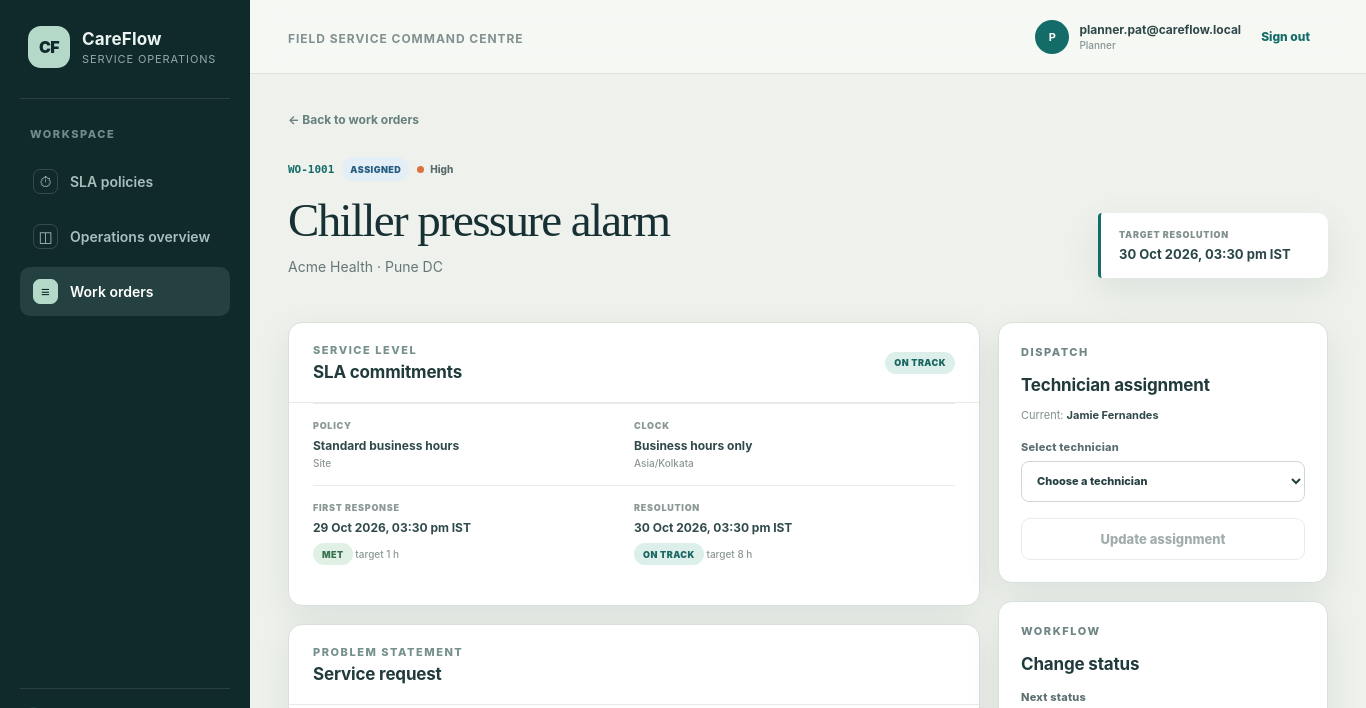
Test case: Work order detail (MSW) › assignment › shows a recoverable conflict banner when the order changed since it was loaded
Expected: the heading "Chiller pressure alarm" is shown, top-left (288, 195), bottom-right (670, 246)
Select "Ananya Rao · Electrical" in the dropdown labelled "Select technician" at (1163, 481), box top-left (1021, 461), bottom-right (1305, 502)
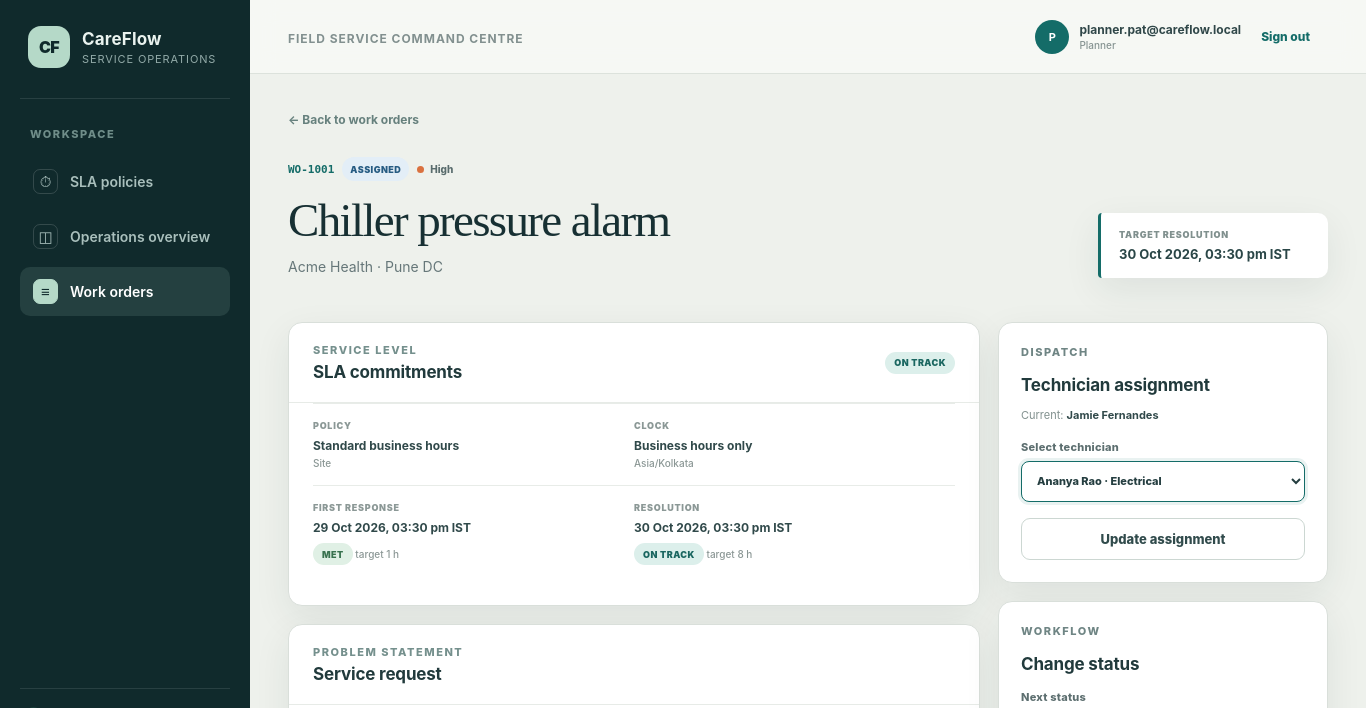
Click the button "Update assignment" at (1163, 539), box top-left (1021, 518), bottom-right (1305, 560)
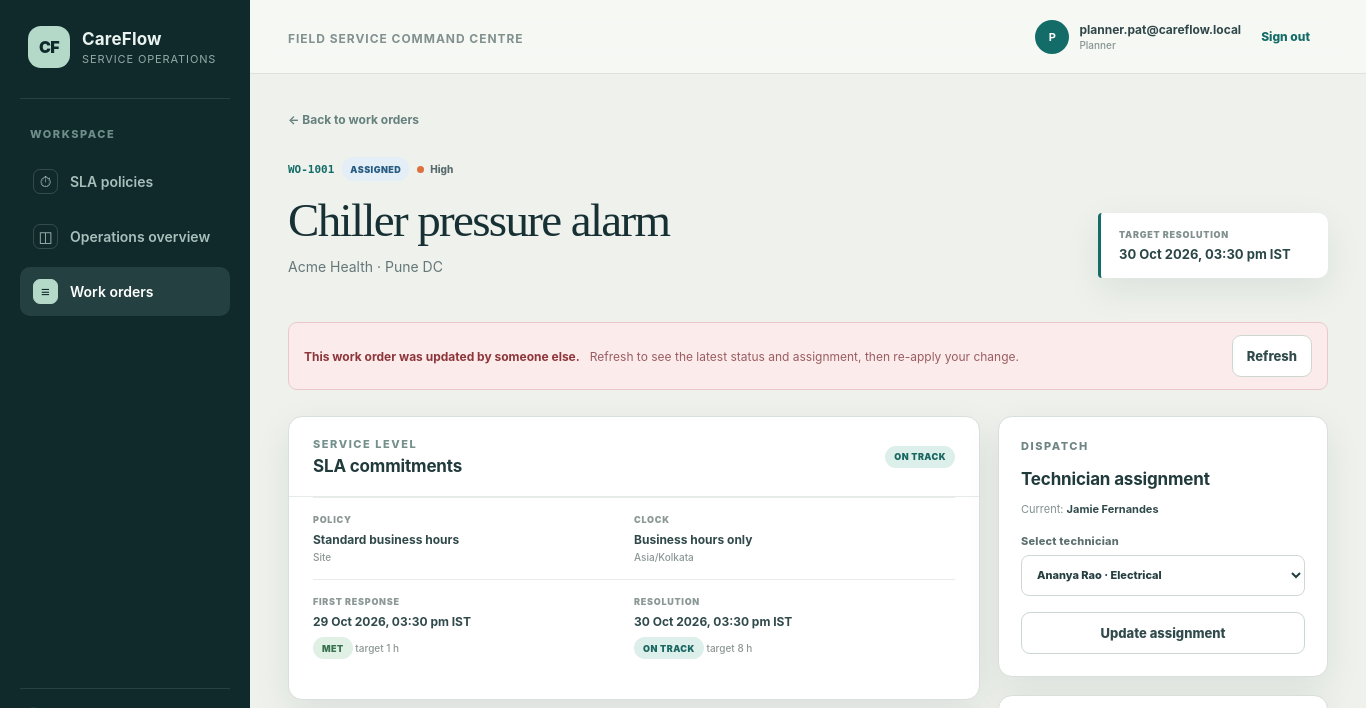
Expected: the text "Jamie Fernandes" is shown, top-left (1067, 502), bottom-right (1159, 516)
Now the message shows "This work order was updated by someone else.", box top-left (304, 349), bottom-right (580, 364)
